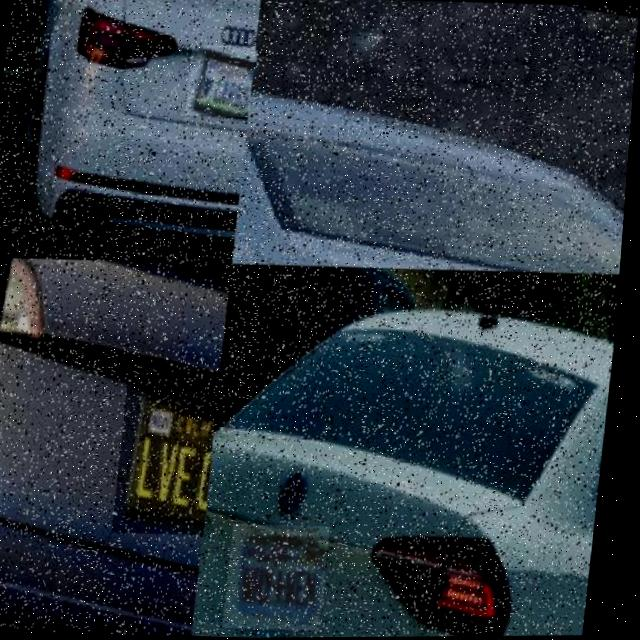LicensePlate: (120, 383, 226, 536), (231, 523, 338, 631), (187, 44, 257, 117)
